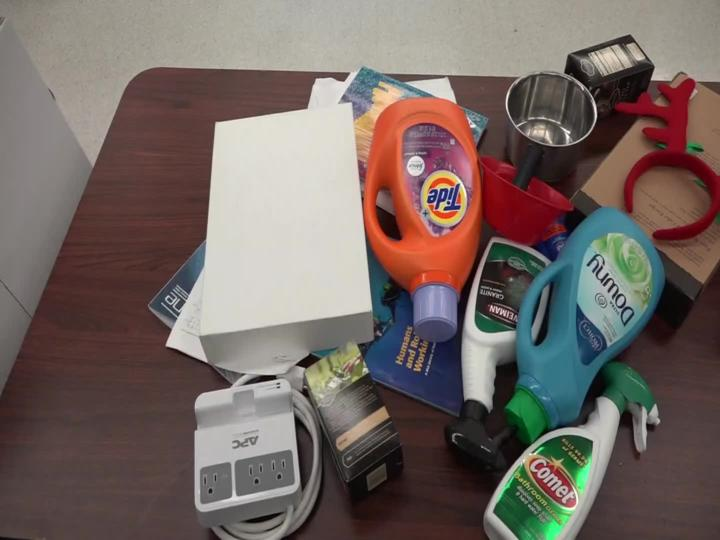downy: (486, 198, 678, 461)
